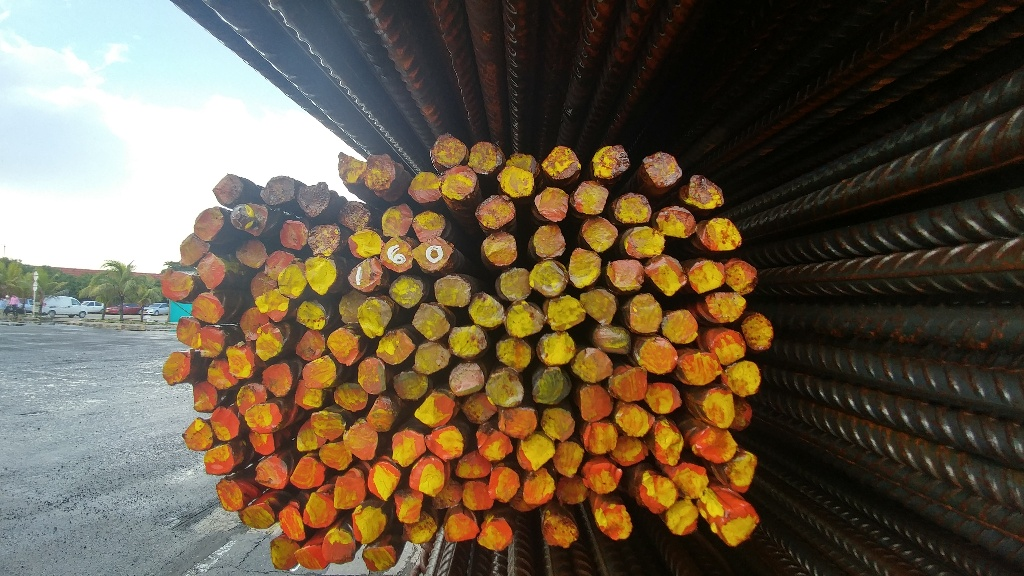dipstick: (715, 507, 760, 546), (342, 424, 382, 462), (504, 302, 546, 338), (649, 258, 688, 295), (477, 195, 517, 230), (357, 300, 393, 338), (389, 430, 427, 466), (539, 406, 577, 442), (543, 147, 582, 182), (540, 330, 575, 369), (683, 176, 723, 210), (410, 455, 444, 495), (427, 424, 464, 460), (698, 430, 736, 465), (276, 505, 309, 545), (704, 386, 736, 427), (413, 340, 450, 375), (485, 372, 522, 407), (439, 165, 477, 199), (702, 218, 740, 252), (581, 218, 619, 252), (575, 348, 613, 382), (533, 369, 571, 403), (630, 293, 663, 332), (576, 423, 615, 456), (375, 330, 415, 362), (624, 227, 665, 258), (645, 381, 686, 412), (579, 290, 616, 324), (642, 154, 680, 187), (707, 290, 746, 322), (548, 298, 587, 330), (658, 206, 698, 237), (245, 405, 286, 435), (573, 180, 608, 215), (327, 329, 362, 364), (578, 385, 613, 420), (476, 427, 511, 462), (349, 258, 385, 292), (449, 364, 485, 398), (334, 474, 370, 508), (353, 506, 387, 542), (593, 145, 630, 178), (368, 462, 401, 499), (569, 250, 601, 288), (661, 311, 699, 343), (644, 473, 676, 511), (496, 407, 536, 437), (533, 262, 568, 296), (413, 305, 448, 339), (496, 337, 530, 372), (413, 397, 454, 426), (321, 530, 357, 563), (606, 260, 643, 292), (611, 368, 648, 400), (390, 369, 428, 400), (536, 189, 570, 223), (498, 168, 533, 201), (363, 156, 398, 189), (616, 192, 651, 225), (254, 458, 287, 493), (643, 339, 676, 374), (157, 268, 193, 300), (303, 490, 334, 527), (381, 239, 415, 272), (436, 275, 470, 308), (727, 362, 760, 396), (586, 460, 620, 493), (468, 142, 503, 174), (498, 268, 533, 300), (690, 258, 722, 293), (667, 502, 699, 537), (388, 277, 424, 308), (207, 358, 243, 389), (290, 456, 326, 487), (616, 406, 652, 437), (318, 441, 355, 471), (414, 241, 452, 270), (730, 450, 756, 492), (483, 233, 516, 266), (408, 173, 442, 205), (260, 363, 294, 395), (597, 505, 629, 539), (434, 134, 469, 165), (534, 225, 565, 260), (523, 469, 552, 506), (211, 175, 245, 206), (299, 181, 330, 215), (382, 204, 413, 238), (554, 444, 585, 478), (359, 356, 386, 395), (302, 358, 338, 387), (305, 261, 337, 293), (239, 308, 271, 340), (471, 295, 505, 325), (543, 519, 578, 548), (651, 429, 679, 465), (337, 383, 369, 414), (491, 467, 518, 503), (480, 518, 510, 550), (520, 437, 552, 467), (193, 294, 226, 323), (745, 315, 774, 348), (338, 155, 372, 183), (446, 513, 480, 541), (227, 346, 257, 377), (711, 333, 742, 363), (728, 261, 757, 293), (685, 355, 717, 384), (235, 384, 268, 412), (313, 413, 346, 441), (407, 513, 440, 541), (557, 477, 590, 505), (310, 226, 340, 256), (276, 270, 307, 299), (217, 477, 245, 509), (163, 354, 190, 387), (452, 328, 485, 355), (268, 538, 295, 571), (349, 230, 383, 256), (340, 202, 370, 231), (195, 211, 224, 241), (192, 383, 222, 412), (185, 419, 213, 450), (263, 176, 295, 203), (295, 381, 327, 408), (415, 211, 444, 240), (267, 250, 296, 279), (246, 427, 275, 456), (295, 331, 325, 359), (240, 504, 273, 529), (205, 445, 234, 473), (180, 235, 207, 265), (213, 408, 240, 438), (462, 482, 492, 509), (460, 453, 490, 480), (200, 255, 225, 287), (178, 316, 202, 349), (235, 238, 263, 266), (281, 220, 307, 250), (364, 406, 396, 430), (295, 545, 327, 569), (365, 545, 392, 573), (398, 497, 425, 524), (200, 328, 224, 358)
